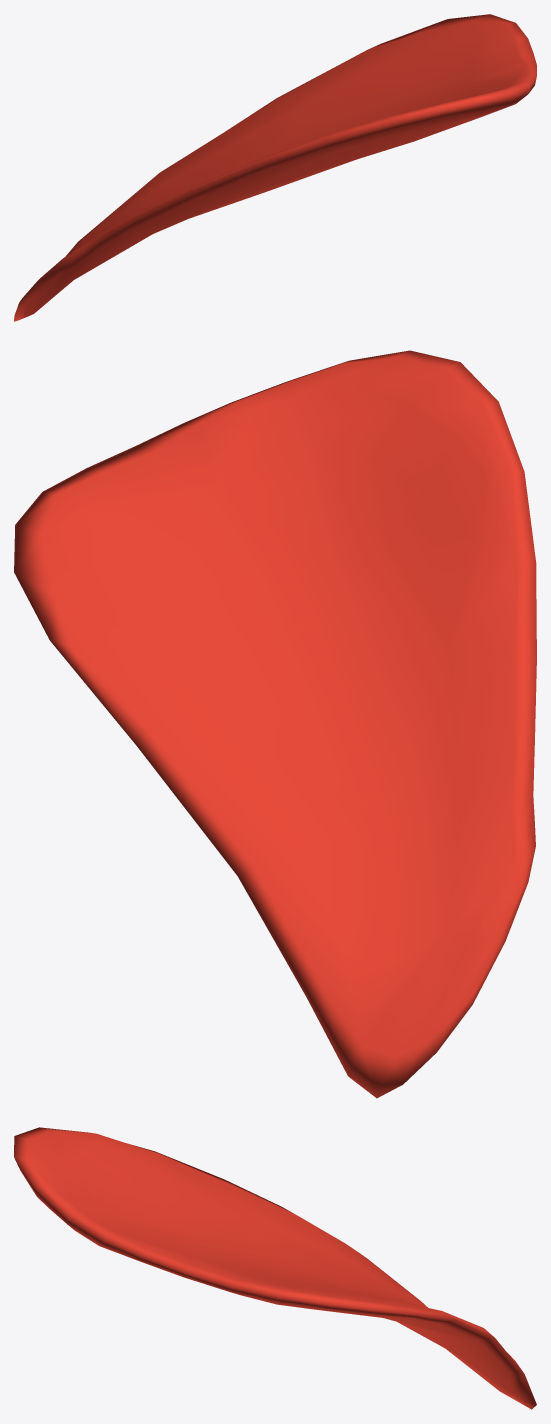
The model's file is Adductor_longus-Pubic_insertion.l_Generated_Mesh_From_X3D.808.glb.
The picture shows the model from 3 angles, top to bottom: view 1: azimuth 30°, elevation 25°; view 2: azimuth 150°, elevation 25°; view 3: azimuth 270°, elevation 25°; orthographic projection. The views are drawn at different scales.
Parts seen in each view (by area): view 1: Adductor_longus-Pubic_insertion.l_Generated_Mesh_From_X3D.80; view 2: Adductor_longus-Pubic_insertion.l_Generated_Mesh_From_X3D.80; view 3: Adductor_longus-Pubic_insertion.l_Generated_Mesh_From_X3D.80.
Boxes of the visible parts, bbox=[...] form: Adductor_longus-Pubic_insertion.l_Generated_Mesh_From_X3D.80: bbox=[14, 14, 536, 321]; Adductor_longus-Pubic_insertion.l_Generated_Mesh_From_X3D.80: bbox=[14, 350, 536, 1098]; Adductor_longus-Pubic_insertion.l_Generated_Mesh_From_X3D.80: bbox=[14, 1127, 536, 1409].
Bounding box in the file's own units: 0.0122 × 0.00968 × 0.0125.
